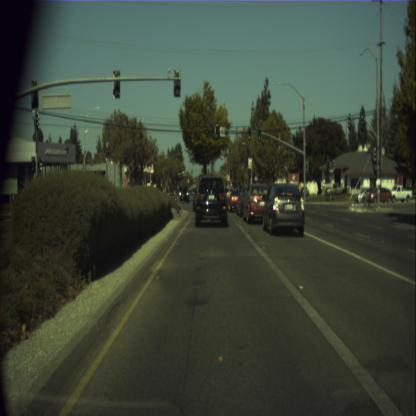Green: (215, 124, 219, 138), (257, 128, 261, 140), (247, 128, 250, 140)
